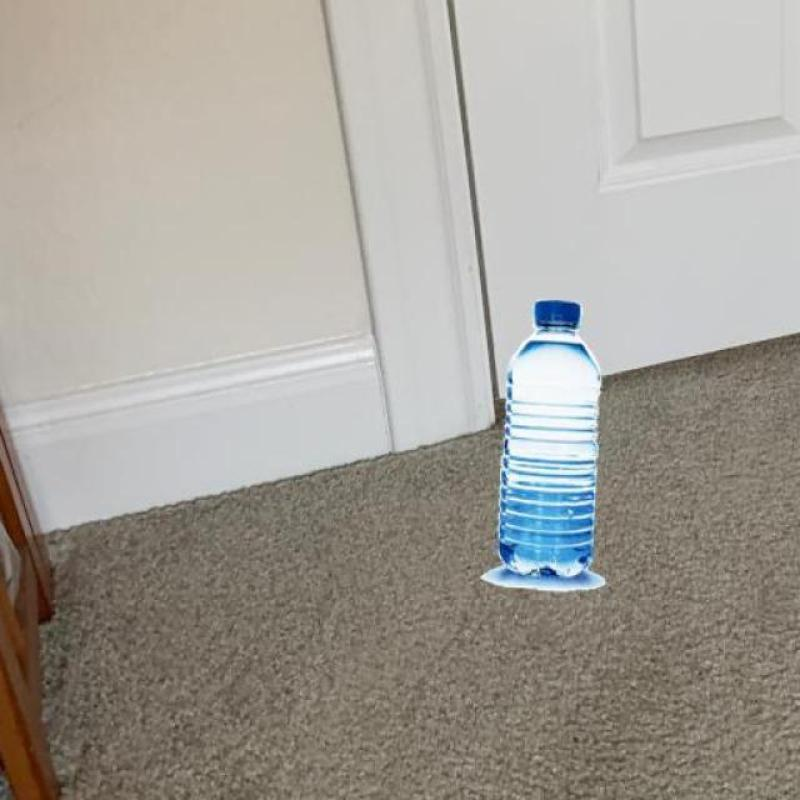botella: (500, 298, 600, 583)
